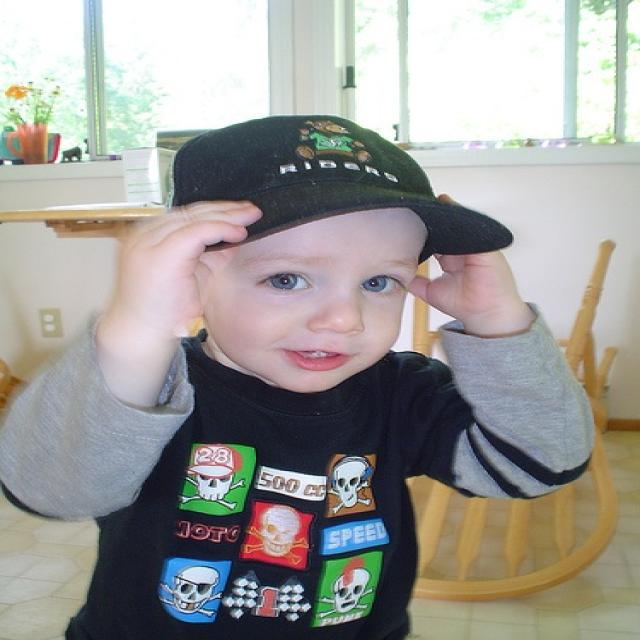chair: (406, 195, 621, 598)
diningtable: (5, 198, 171, 238)
